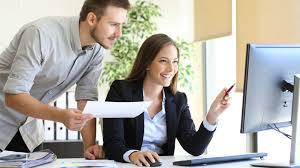Person: (1, 1, 131, 167), (104, 33, 233, 168)
